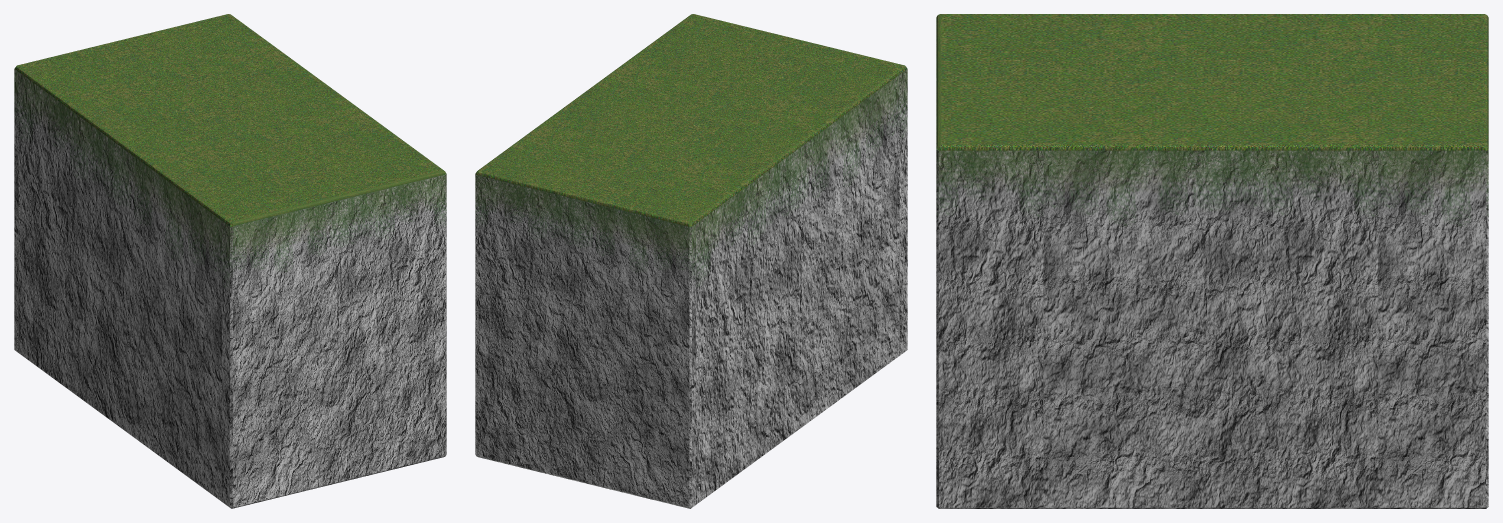
Rendered from cliff.fbx.
3 views of the same model, side by side, from view 1: azimuth 30°, elevation 25°; view 2: azimuth 150°, elevation 25°; view 3: azimuth 270°, elevation 25° (orthographic). The views are drawn at different scales.
Visible parts, largest first — view 1: pCube1; view 2: pCube1; view 3: pCube1.
Boxes of the visible parts, x1,y1,x2,y2 form: pCube1: (14,14,446,508); pCube1: (475,14,907,508); pCube1: (936,14,1488,508).
Bounding box in the file's own units: 10.46 × 13.2 × 18.17.
Materials: 3 (3 with a texture image).
